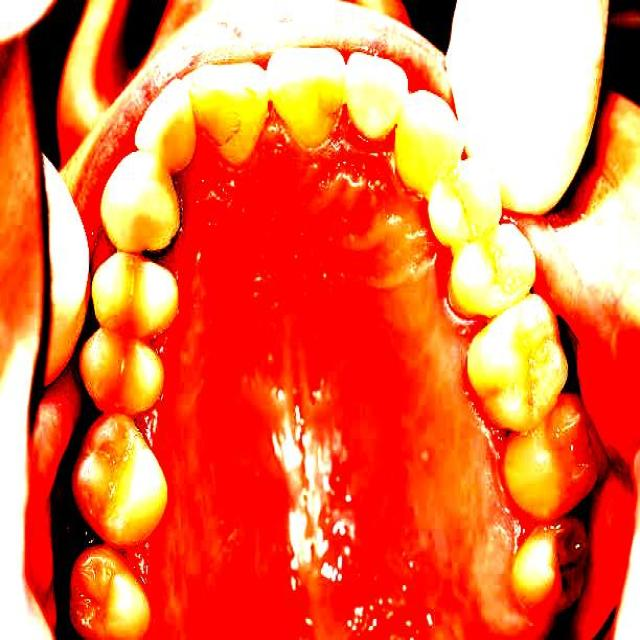caries: (541, 516, 595, 608)
